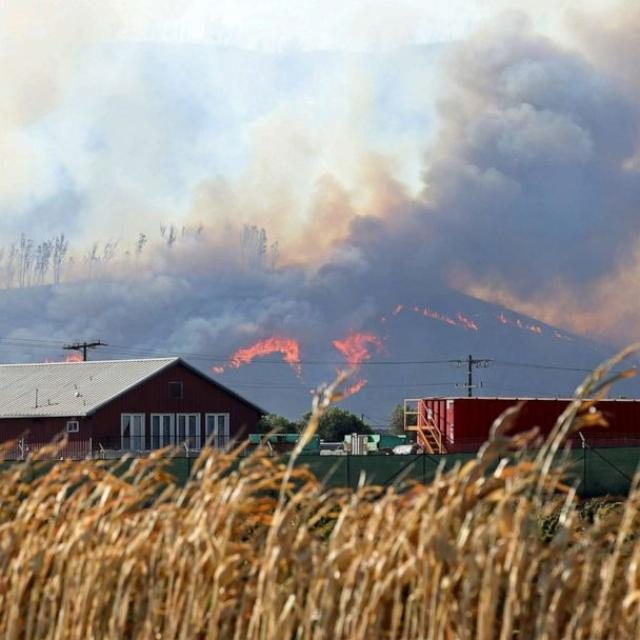Fire: (221, 319, 402, 426)
Smoke: (229, 0, 640, 318), (8, 167, 224, 413)
